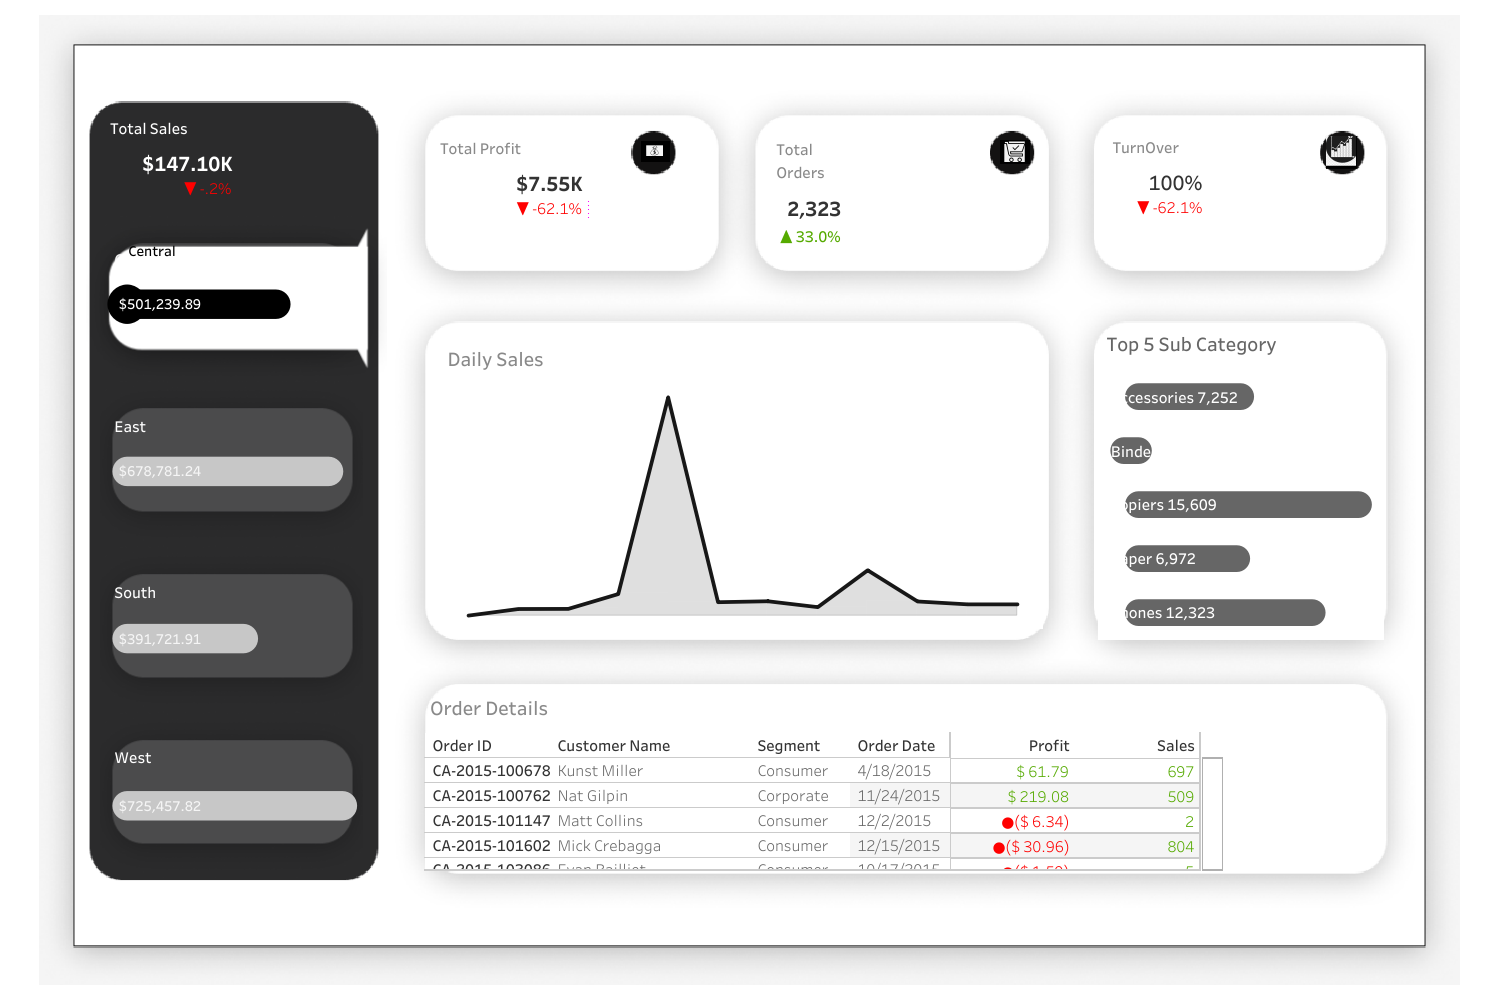

What the dashboard file says about the page in this screenshot:
{"tool":"tableau","page":{"name":"Dashboard 1","canvas":[1200,800],"ordinal":0},"visuals":[{"type":"image","param":"Image/Anu project.png","box":[8,8,1184,784]},{"type":"worksheet","title":"Total Sales","mark":"Automatic","cols":["Profit-CY (copy)_846395299672580106"],"box":[84,87,199,89]},{"type":"worksheet","title":"TurnOver","mark":"Automatic","cols":["Calculation_846395299672985612"],"box":[886,102,216,106]},{"type":"worksheet","title":"Total Profit","mark":"Automatic","cols":["Calculation_846395299662348290"],"box":[348,103,170,86]},{"type":"worksheet","title":"Total Orders","mark":"Automatic","cols":["Profit-CY (copy)_846395299668414470"],"box":[617,104,182,113]},{"type":"worksheet","title":"profit","mark":"Shape","rows":["Orders_32830CB75C844658B123032670D83C46"],"box":[1061,109,24,25]},{"type":"worksheet","title":"orders","mark":"Shape","rows":["Orders_32830CB75C844658B123032670D83C46"],"box":[800,112,23,18]},{"type":"worksheet","title":"money","mark":"Shape","rows":["Orders_32830CB75C844658B123032670D83C46"],"box":[513,113,22,16]},{"type":"worksheet","title":" Sales per Region","mark":"Line","rows":["Region"],"box":[81,161,213,550]},{"type":"worksheet","title":"Rectangle","mark":"Shape","rows":["Region"],"box":[80,171,210,531]},{"type":"worksheet","title":"White","mark":"Shape","rows":["Region"],"box":[69,176,241,522]},{"type":"worksheet","title":"Transparent header","mark":"Shape","rows":["Region"],"box":[64,183,277,524]},{"type":"worksheet","title":" Top 5 Sub Category","mark":"Line","rows":["Sub-Category"],"box":[878,258,228,253]},{"type":"worksheet","title":"Daily Sales","mark":"Automatic","rows":["Sales","Sales"],"cols":["Order Date"],"box":[354,270,479,232]},{"type":"worksheet","title":"Order Details","mark":"Automatic","rows":["Order ID","Customer Name","Segment","Order Date"],"box":[340,549,767,148]}]}

Visuals, with their boxes in screenshot pixels (x1, y1, x2, y2), scaled from the page's 1200x800 canvas onto the 1499x999 screenshot:
image: crop(10, 10, 1489, 989)
"Total Sales" worksheet: crop(105, 109, 354, 220)
"TurnOver" worksheet: crop(1107, 127, 1377, 260)
"Total Profit" worksheet: crop(435, 129, 647, 236)
"Total Orders" worksheet: crop(771, 130, 998, 271)
"profit" worksheet (Shape marks): crop(1325, 136, 1355, 167)
"orders" worksheet (Shape marks): crop(999, 140, 1028, 162)
"money" worksheet (Shape marks): crop(641, 141, 668, 161)
" Sales per Region" worksheet (Line marks): crop(101, 201, 367, 888)
"Rectangle" worksheet (Shape marks): crop(100, 214, 362, 877)
"White" worksheet (Shape marks): crop(86, 220, 387, 872)
"Transparent header" worksheet (Shape marks): crop(80, 229, 426, 883)
" Top 5 Sub Category" worksheet (Line marks): crop(1097, 322, 1382, 638)
"Daily Sales" worksheet: crop(442, 337, 1041, 627)
"Order Details" worksheet: crop(425, 686, 1383, 870)
